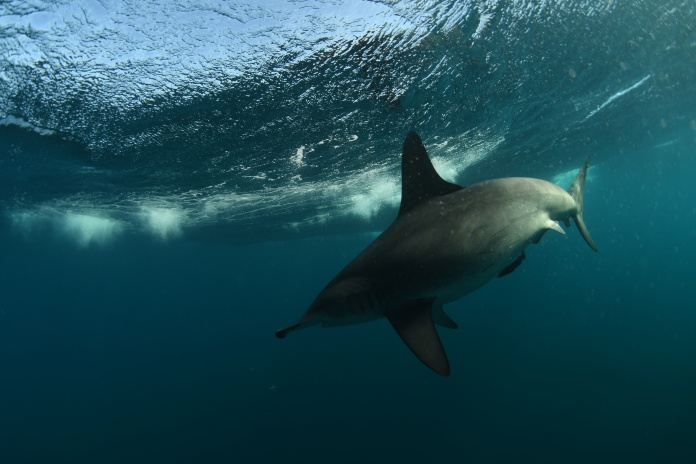Hammer: (251, 122, 611, 389)
